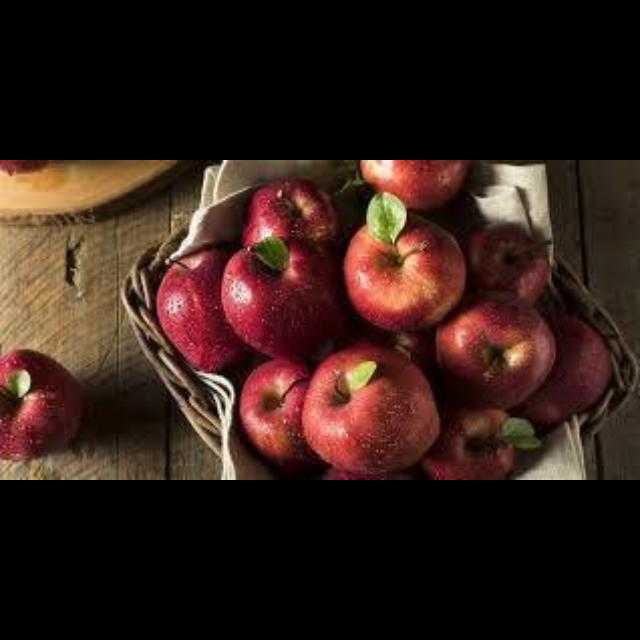apple: (302, 341, 439, 472), (221, 236, 346, 357), (435, 291, 553, 408), (344, 218, 463, 327), (155, 247, 248, 371), (515, 313, 610, 426), (239, 359, 320, 470), (421, 402, 539, 478), (0, 349, 81, 458), (242, 178, 338, 247), (465, 224, 547, 303), (360, 160, 469, 210)
